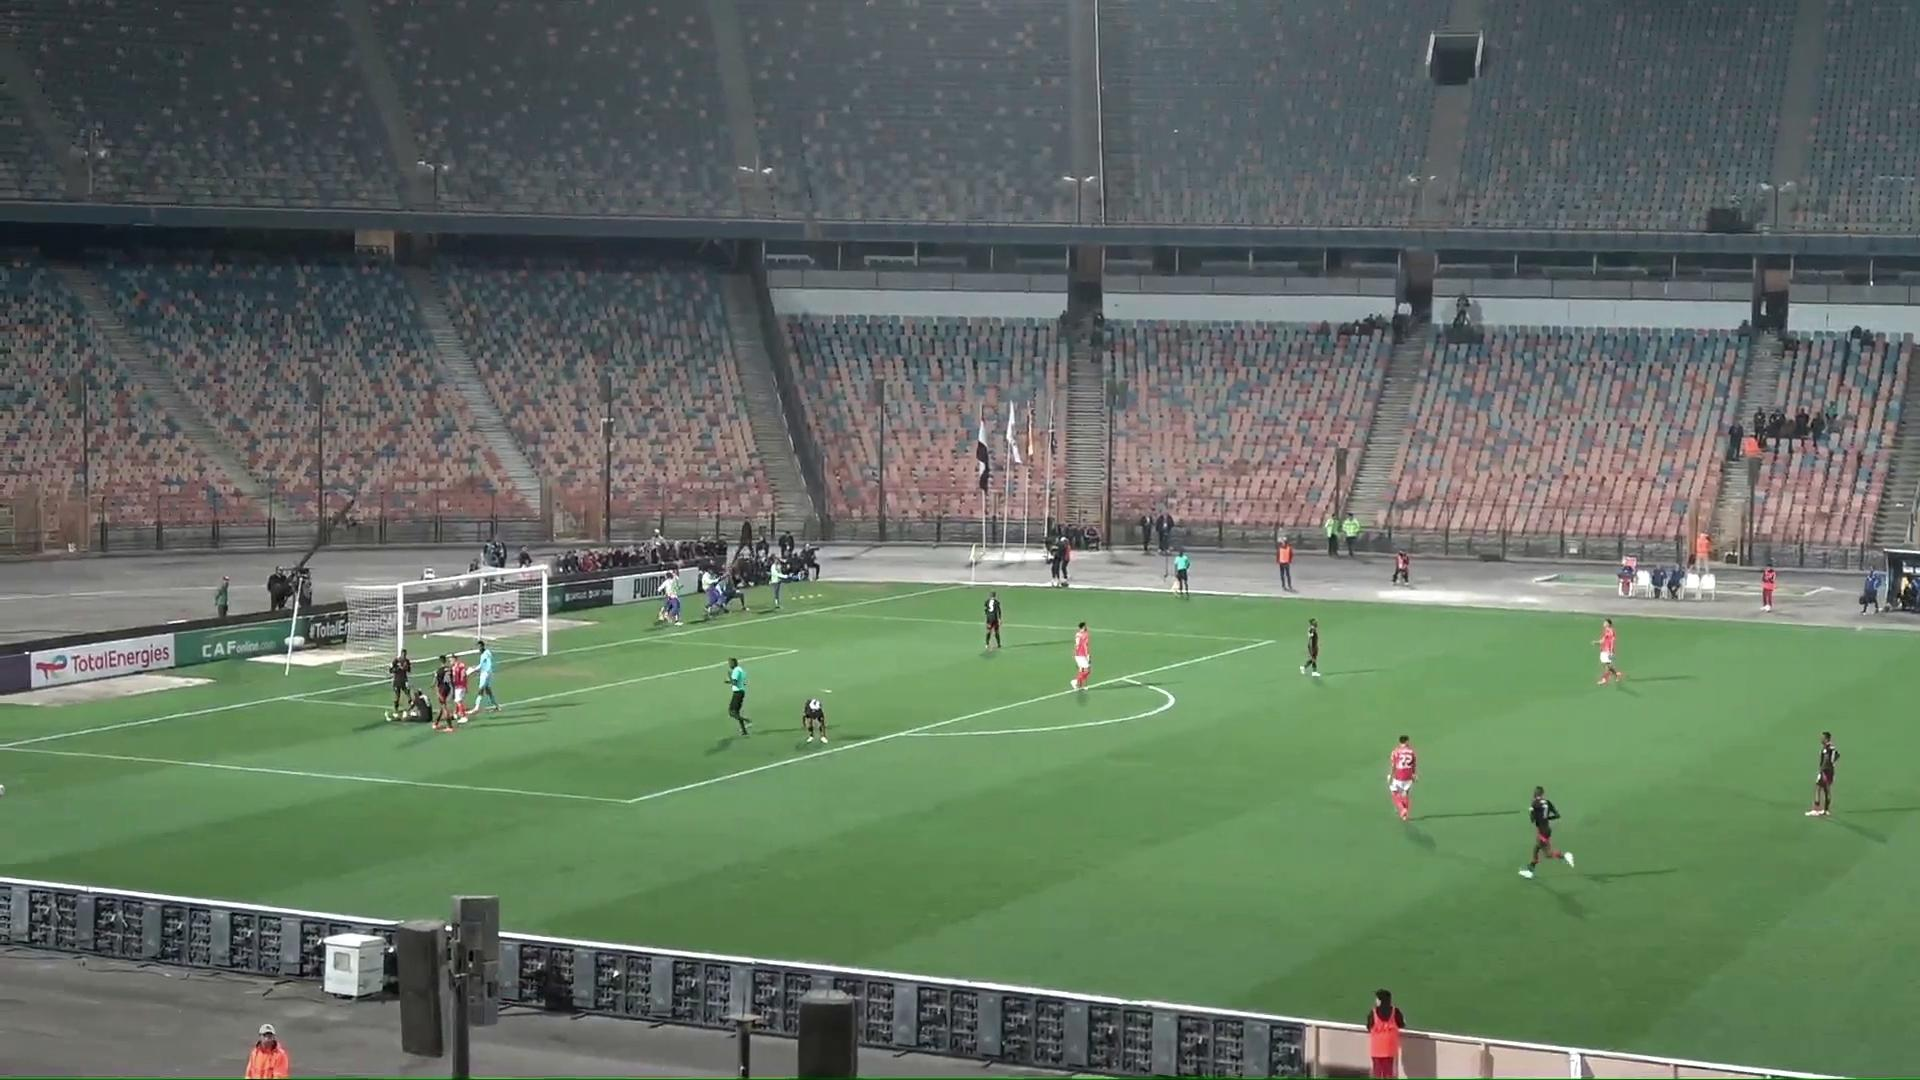GK2: (469, 640, 498, 709)
Refree: (725, 657, 752, 735), (1171, 542, 1192, 597)
Team1: (1387, 735, 1418, 822), (1596, 617, 1625, 684), (446, 655, 469, 728), (1069, 622, 1092, 688)
Team2: (1519, 786, 1572, 877), (384, 651, 430, 721), (1805, 731, 1840, 816), (433, 655, 458, 731), (1298, 618, 1321, 676), (800, 698, 829, 741), (982, 589, 1002, 649)
